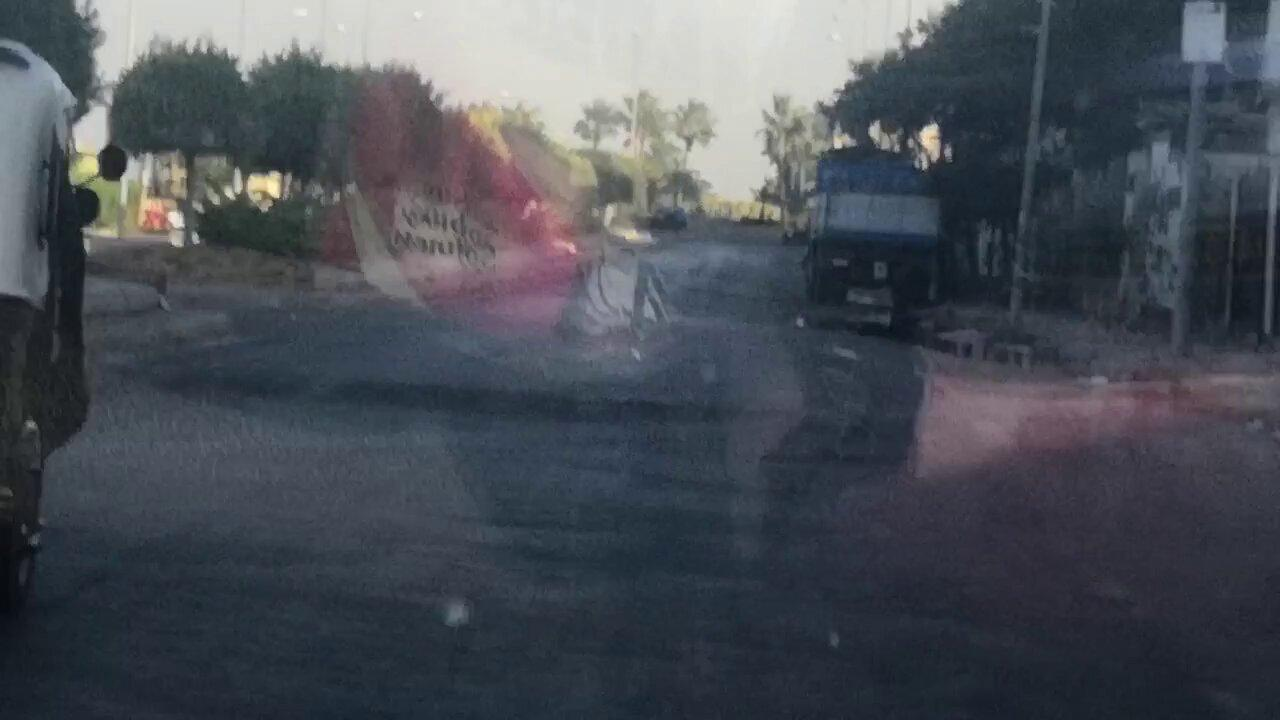Bump: (132, 348, 1153, 472)
